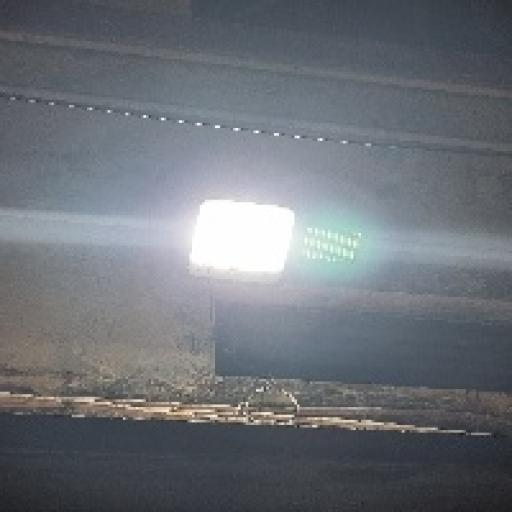Working: (178, 190, 314, 292)
